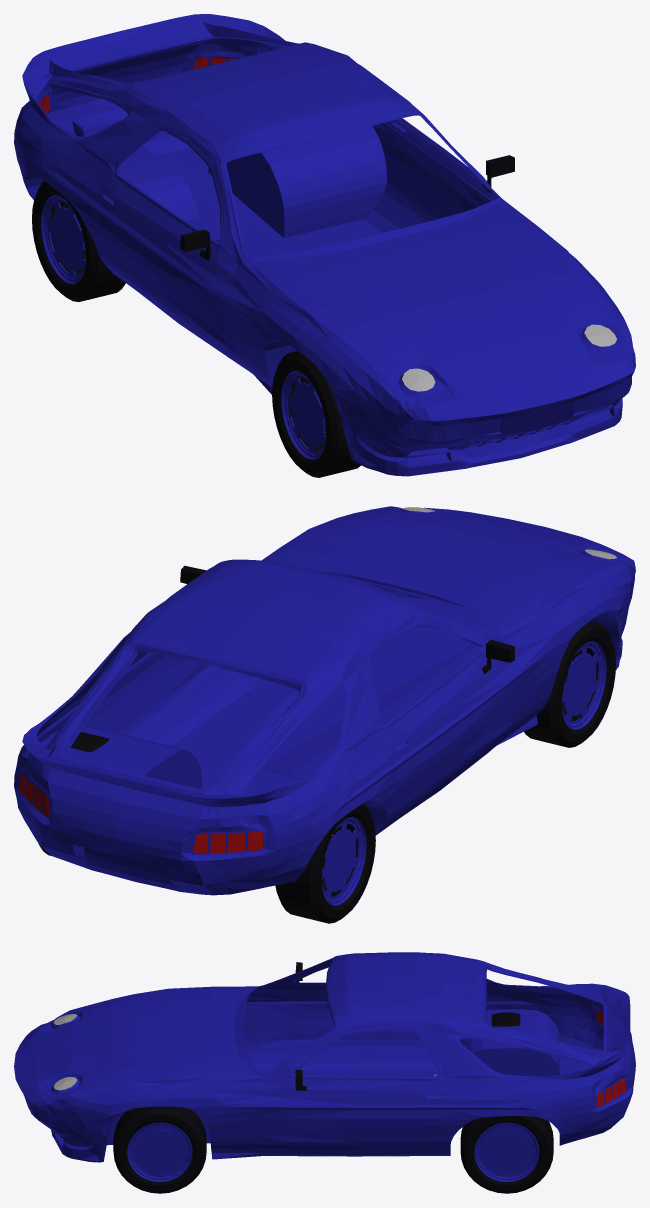
File: sensevidres.obj
3 views of the same model, one above another, from view 1: azimuth 30°, elevation 25°; view 2: azimuth 150°, elevation 25°; view 3: azimuth 270°, elevation 25° (orthographic). The views are drawn at different scales.
Parts seen in each view (by area): view 1: Mesh_body, Mesh.015_tireC, Mesh.005_tire, Mesh.011_rim, Mesh.009_rimC, Mesh.014_mirror, Mesh.016_frlite; view 2: Mesh_body, Mesh.005_tire, Mesh.015_tireC, Mesh.009_rimC, Mesh.011_rim, Mesh.001_relite, Mesh.014_mirror; view 3: Mesh_body, Mesh.008_tireB, Mesh.002_tireA, Mesh.012_rimA, Mesh.013_rimB, Mesh.006_rim1A, Mesh.003_rim1B, Mesh.001_relite, Mesh.005_tire, Mesh.016_frlite.
Boxes of the visible parts, x1,y1,x2,y2 form: Mesh_body: [14, 14, 635, 476]; Mesh.015_tireC: [272, 351, 360, 477]; Mesh.005_tire: [32, 180, 125, 301]; Mesh.011_rim: [45, 197, 85, 280]; Mesh.009_rimC: [285, 373, 325, 456]; Mesh.014_mirror: [180, 155, 514, 260]; Mesh.016_frlite: [402, 324, 616, 391]; Mesh_body: [14, 506, 635, 895]; Mesh.005_tire: [275, 803, 375, 923]; Mesh.015_tireC: [524, 621, 615, 747]; Mesh.009_rimC: [562, 643, 602, 726]; Mesh.011_rim: [321, 819, 362, 901]; Mesh.001_relite: [20, 773, 262, 853]; Mesh.014_mirror: [180, 565, 514, 673]; Mesh_body: [14, 952, 635, 1162]; Mesh.008_tireB: [113, 1106, 206, 1193]; Mesh.002_tireA: [460, 1116, 553, 1193]; Mesh.012_rimA: [476, 1123, 537, 1179]; Mesh.013_rimB: [129, 1123, 190, 1179]; Mesh.006_rim1A: [474, 1122, 539, 1181]; Mesh.003_rim1B: [127, 1122, 192, 1181]; Mesh.001_relite: [597, 1010, 626, 1106]; Mesh.005_tire: [491, 1012, 520, 1026]; Mesh.016_frlite: [53, 1014, 77, 1090].
Size of the model in its own units: 50.52 by 33.8 by 114.
